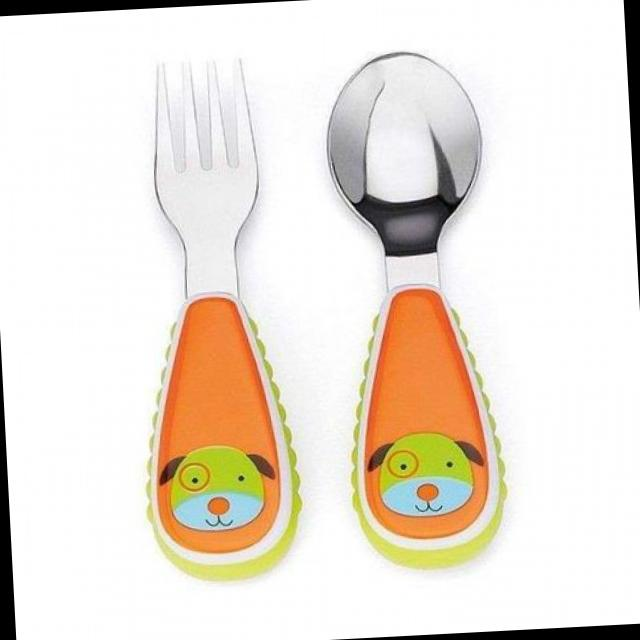fork: (133, 54, 302, 585)
spoon: (311, 40, 534, 586)
